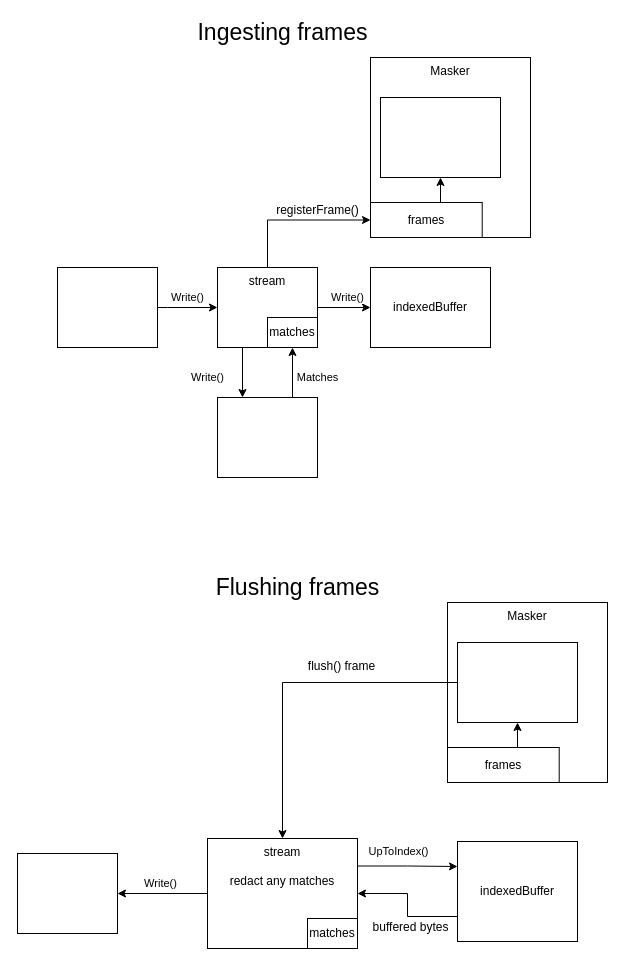
This 625x966 diagram has some shape labels left out. The shapes that lost their labels are listed below. From the top down, each one's box as (x1, y1, x2, y2) in pixels, then its label:
(380, 96, 500, 178): go Run() wait for frame timer
(56, 266, 158, 348): process's stdout
(216, 396, 318, 478): matcher
(456, 642, 578, 722): go Start() wait for frame timer
(16, 852, 118, 934): destination
